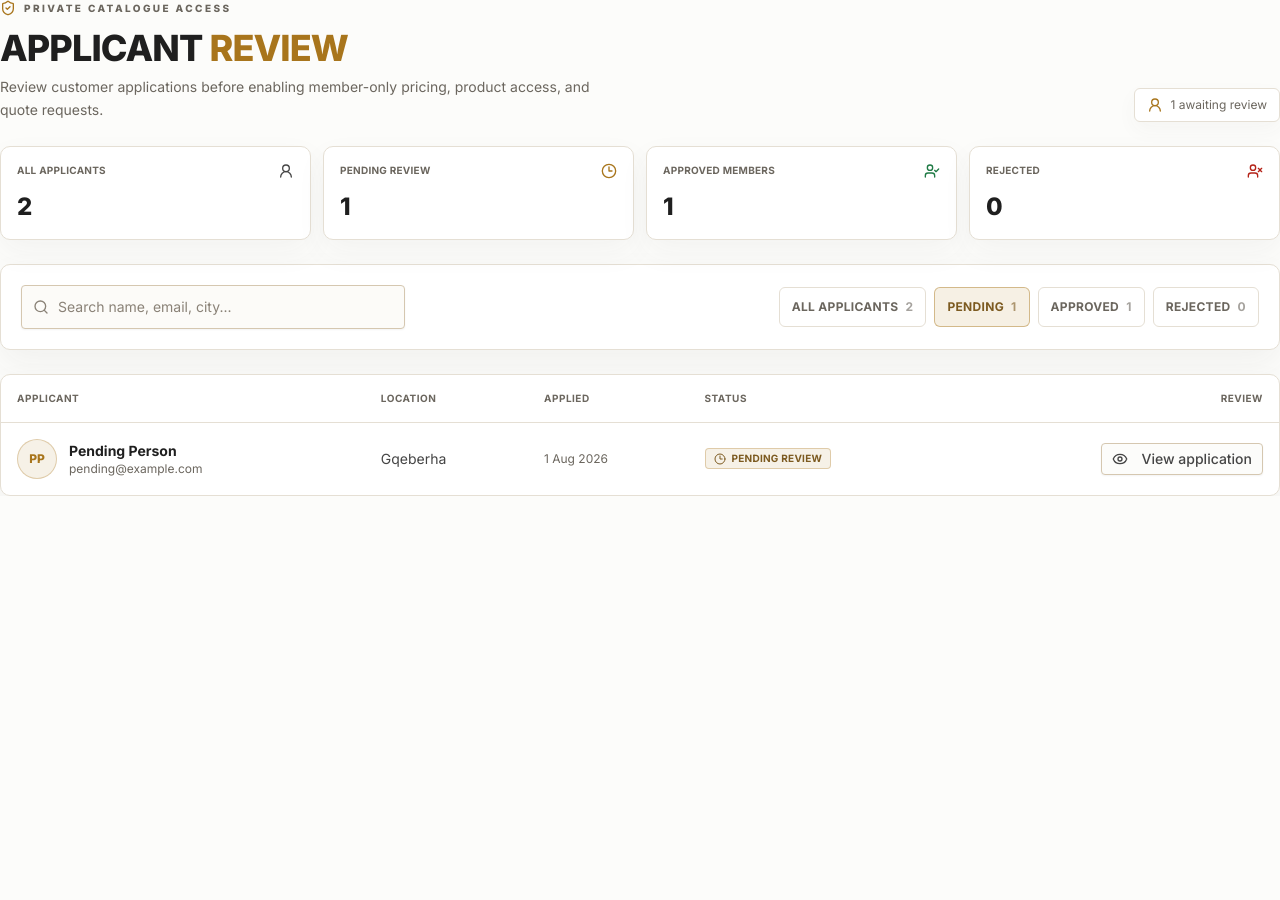
AdminApprovalDashboard › filters the applicant list and opens the review dialog
The image size is (1280, 900).
Check: the text "Pending Person" is shown, box [69,442,177,458]
Check: the text "Approved Person" is not shown
Click the tab "All applicants 2" at (853, 306), box [779,286,926,326]
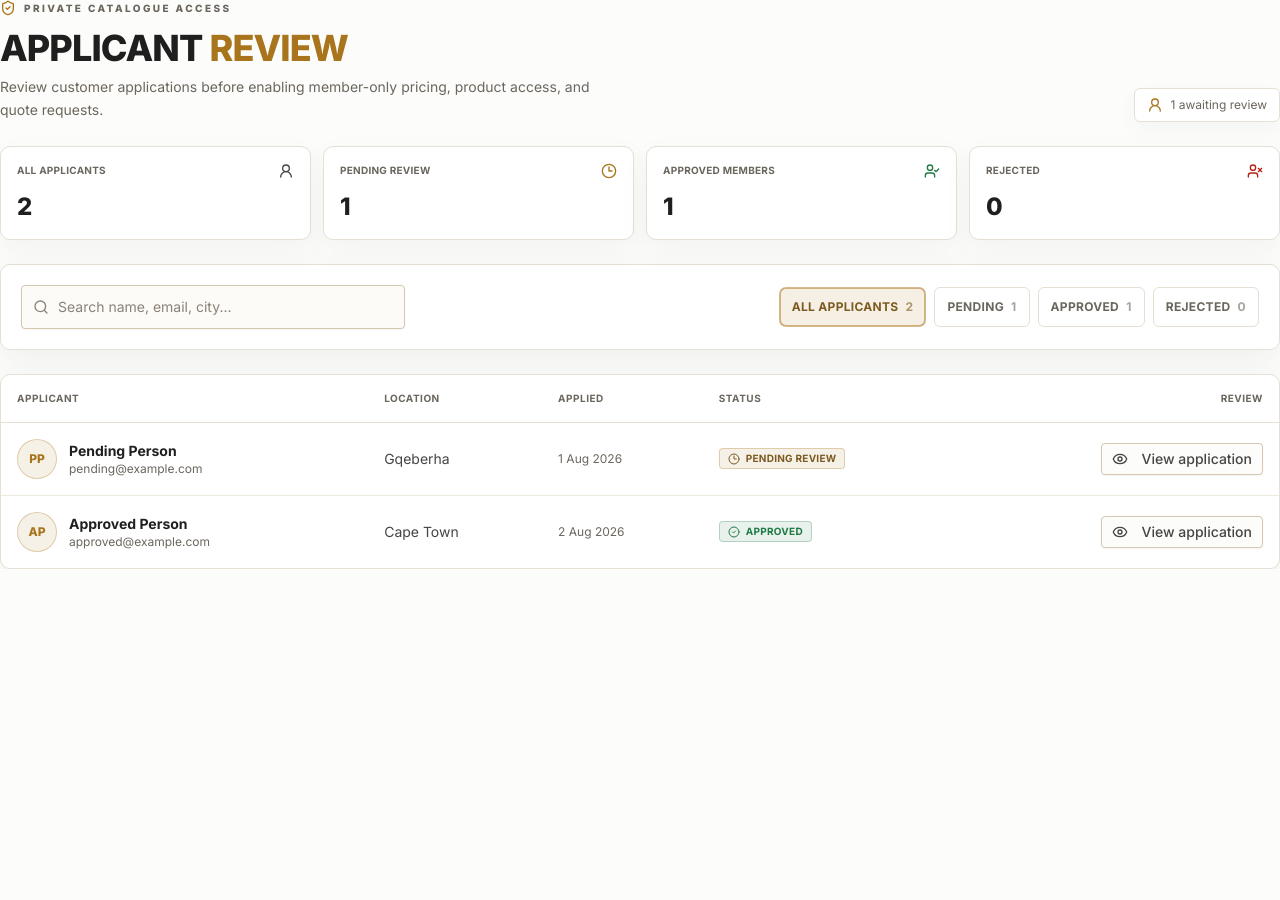
Check: the text "Approved Person" is shown, box [69,514,188,532]
Click the button "View application" in the row of "Pending Person" at (1182, 458), box [1101,442,1263,474]
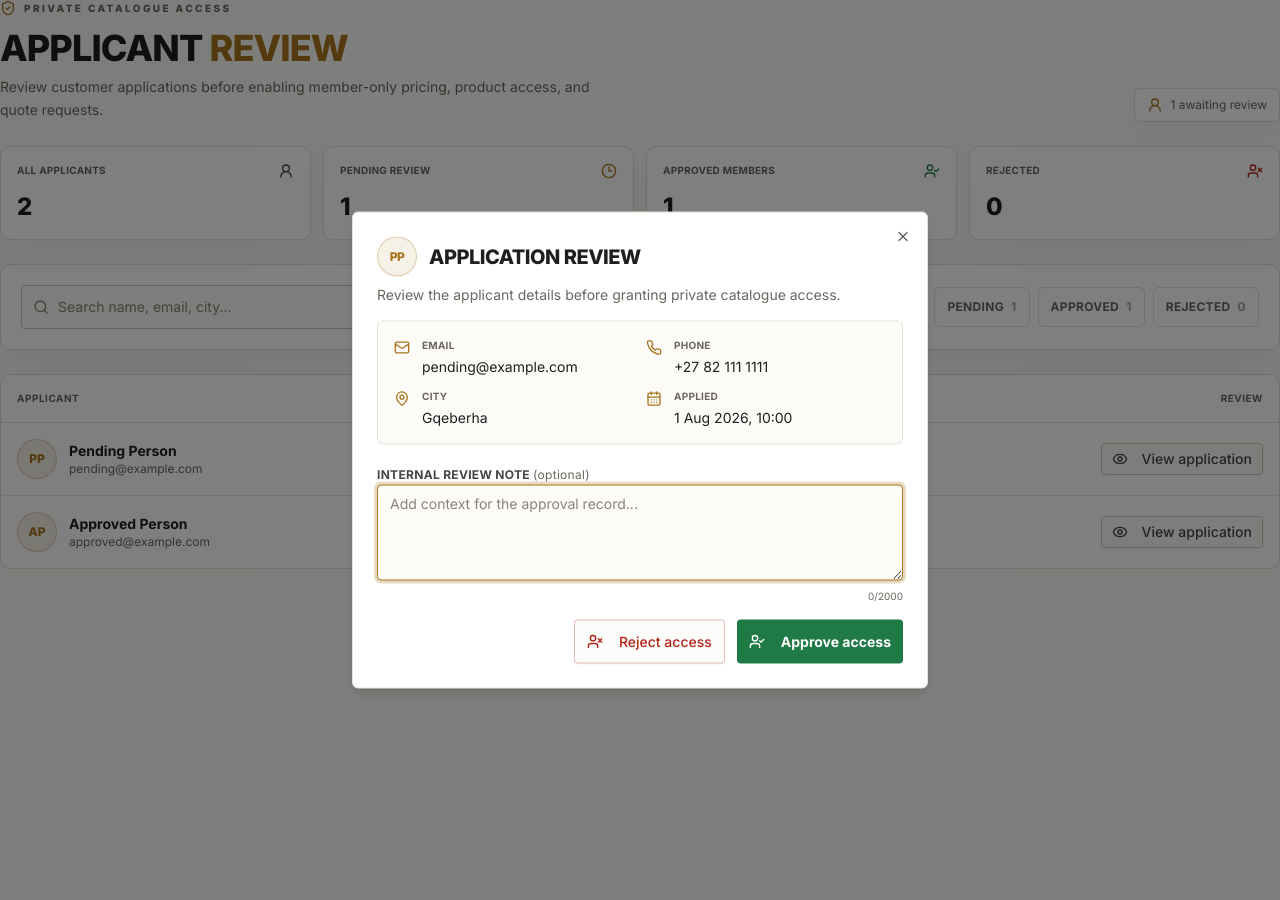
Check: the dialog shows "pending@example.com", box [422,358,578,374]
Check: the text box labelled "Internal review note (optional)" is shown, box [377,484,903,580]
